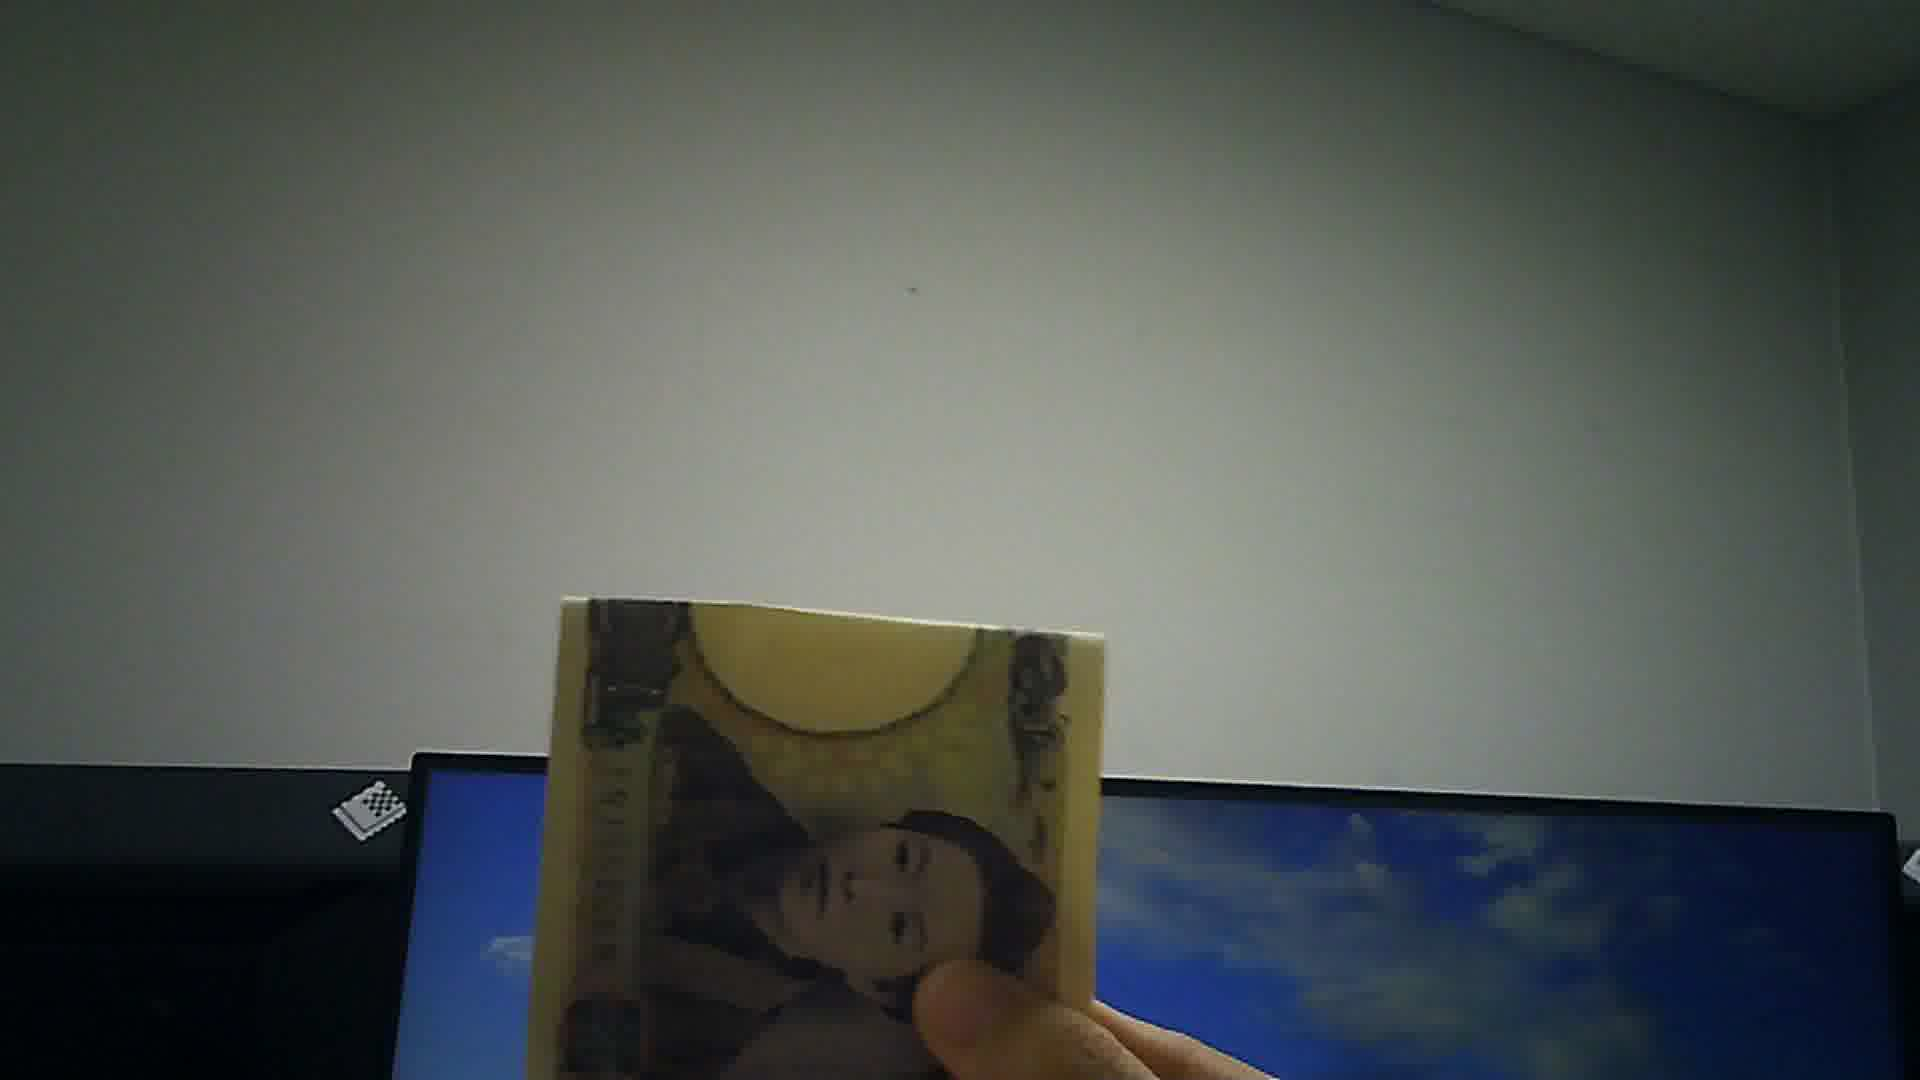5,000 Yen: (529, 588, 1106, 1079)
